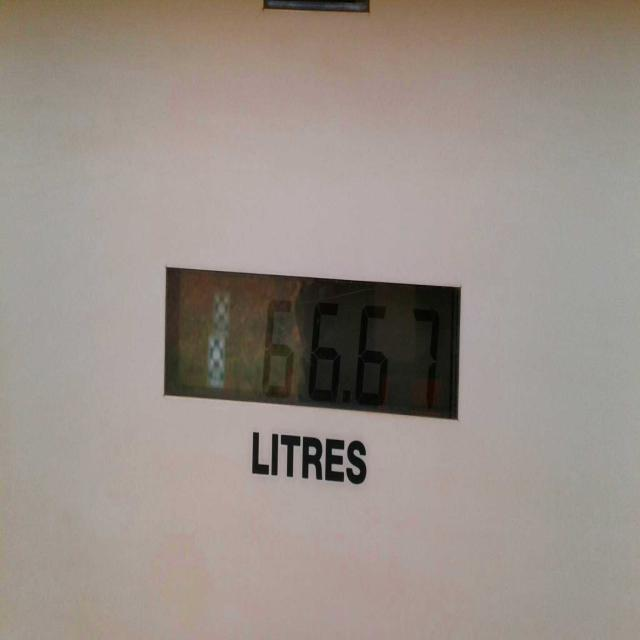.: (336, 375, 356, 419)
6: (255, 283, 296, 396), (353, 295, 392, 411), (304, 291, 339, 414)
7: (402, 298, 448, 417)
